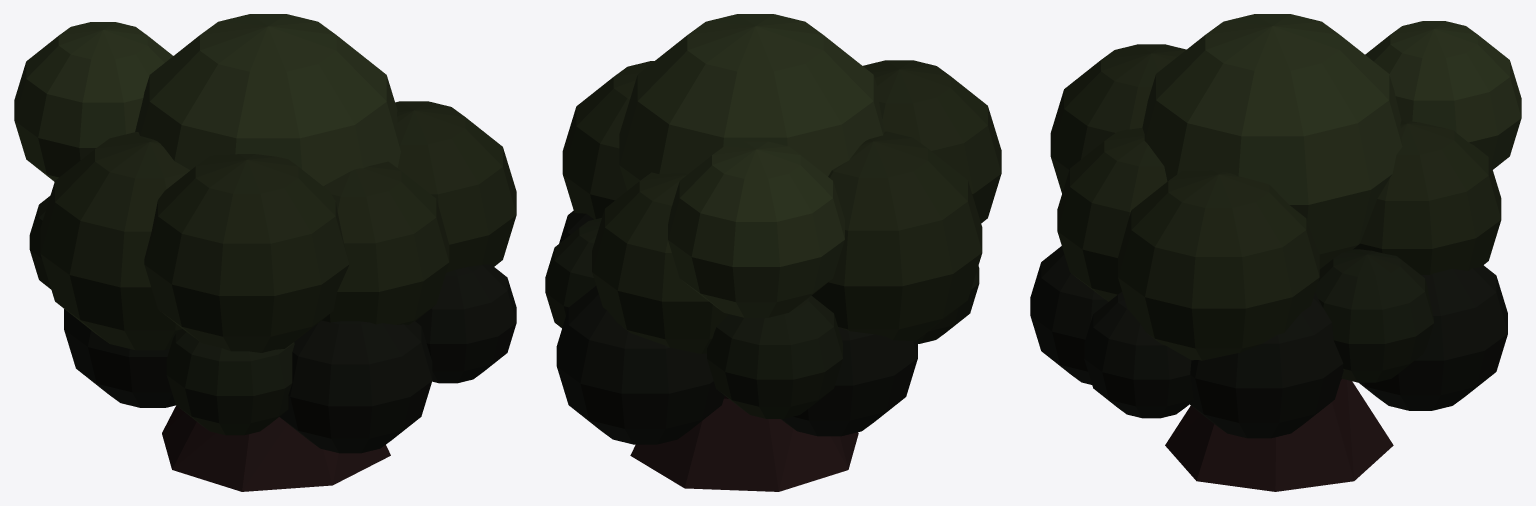
Rendered from bush.gltf.
3 views of the same model, side by side, from view 1: azimuth 30°, elevation 25°; view 2: azimuth 150°, elevation 25°; view 3: azimuth 270°, elevation 25° (orthographic).
Visible parts, largest first — view 1: Bush; view 2: Bush; view 3: Bush.
Boxes of the visible parts, left/top/right/bottom form: Bush: left=14, top=14, right=516, bottom=491; Bush: left=545, top=14, right=1001, bottom=491; Bush: left=1030, top=14, right=1521, bottom=491.
Bounding box in the file's own units: 1.31 × 1.25 × 1.34.
1 material, 1 textured.
